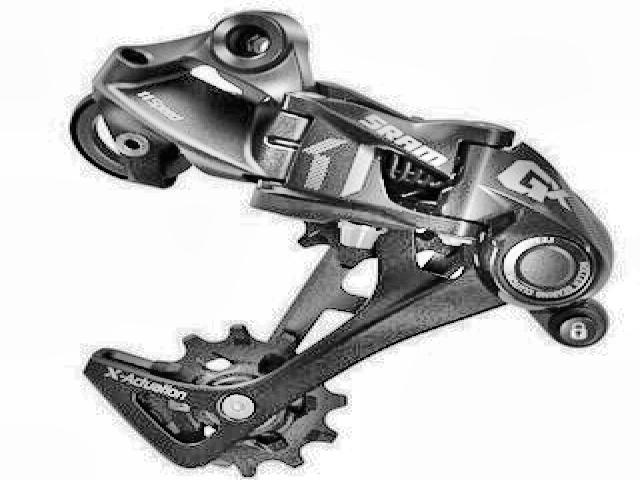rear_derailleur: (68, 8, 615, 474)
